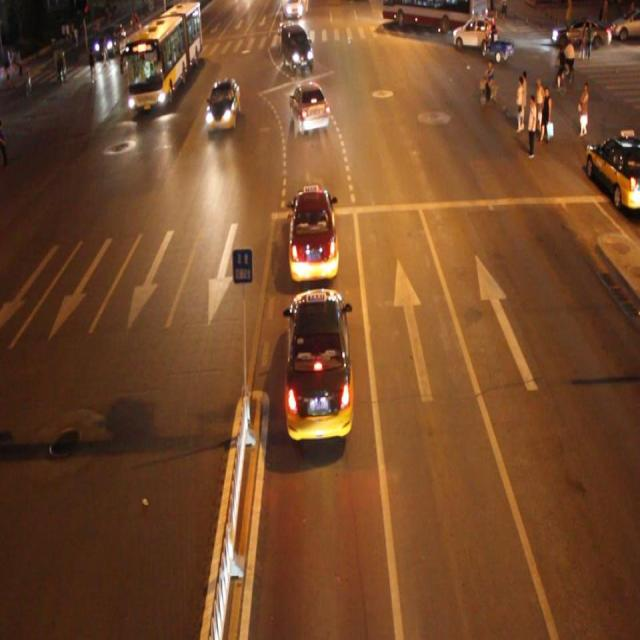car: (285, 287, 352, 440), (287, 188, 339, 284), (288, 81, 329, 135), (205, 78, 240, 131), (280, 28, 314, 75)
van: (125, 1, 202, 113)
